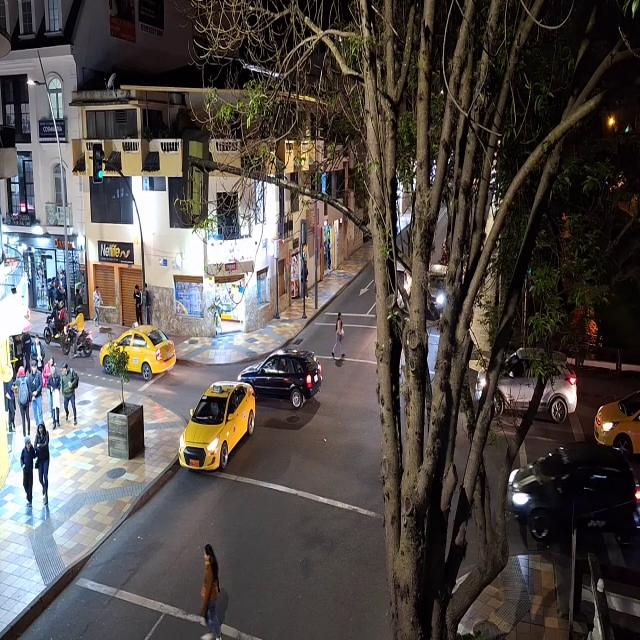MOTORCYCLE: (62, 328, 93, 358), (44, 320, 64, 344)
SED: (180, 382, 250, 470), (101, 328, 175, 373)
SUV: (477, 348, 577, 421), (239, 350, 321, 402)
